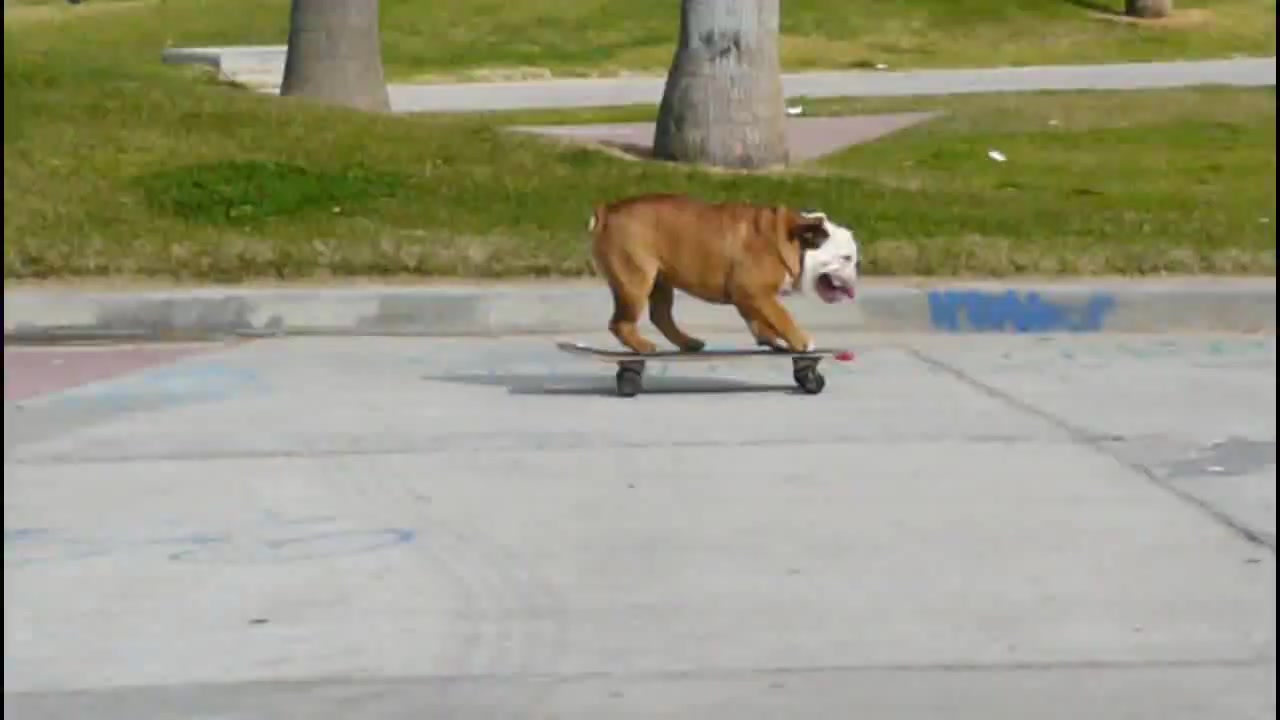dog: (585, 192, 864, 353)
